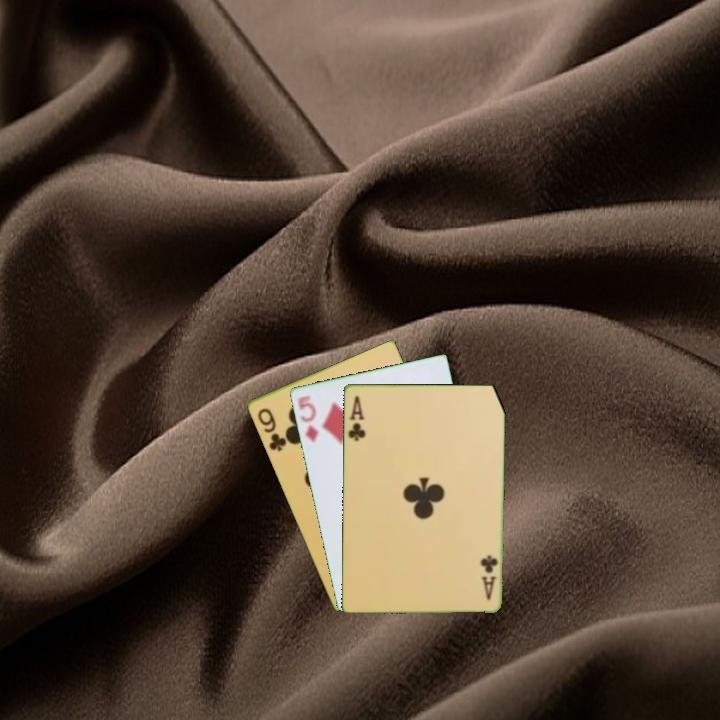5d: (294, 391, 321, 445)
9c: (254, 404, 289, 454)
Ac: (345, 392, 368, 444), (477, 552, 500, 602)
